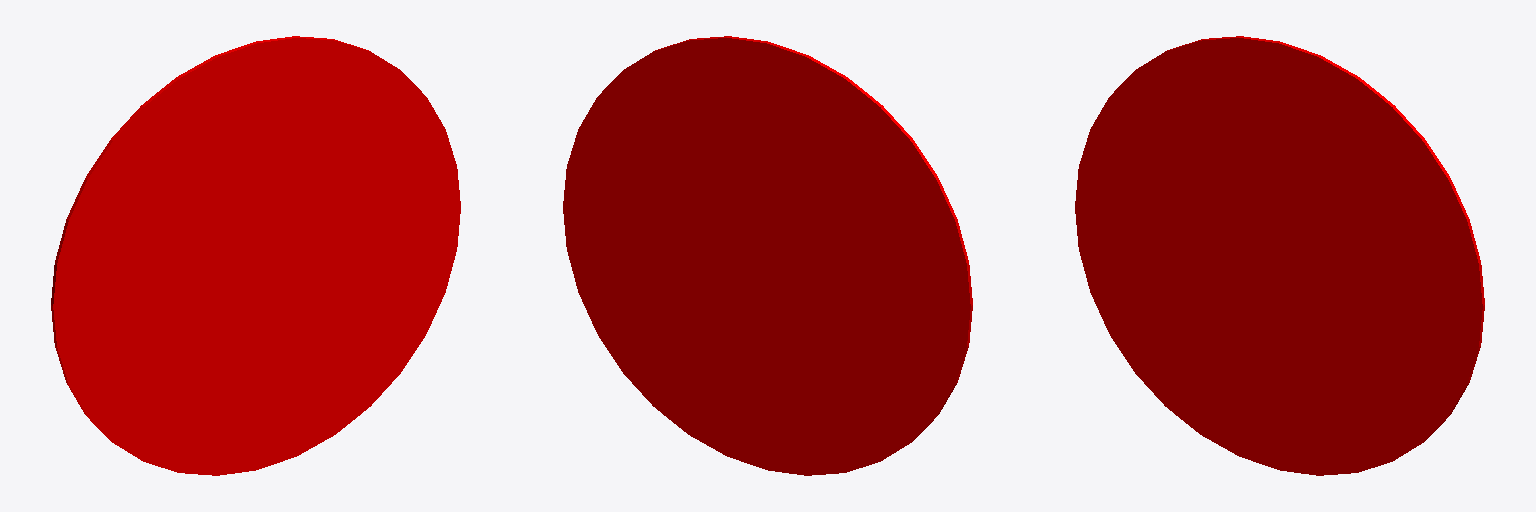
The model's file is Region.obj.
3 renders of one model, left to right at view 1: azimuth 30°, elevation 25°; view 2: azimuth 150°, elevation 25°; view 3: azimuth 330°, elevation 25°, orthographic.
Parts seen in each view (by area): view 1: Cylinder.001; view 2: Cylinder.001; view 3: Cylinder.001.
Boxes of the visible parts, box(x1,y1,x2,y2) form: Cylinder.001: box(51, 36, 460, 475); Cylinder.001: box(563, 36, 972, 475); Cylinder.001: box(1075, 36, 1484, 475).
Size of the model in its own units: 54 by 54 by 0.54.